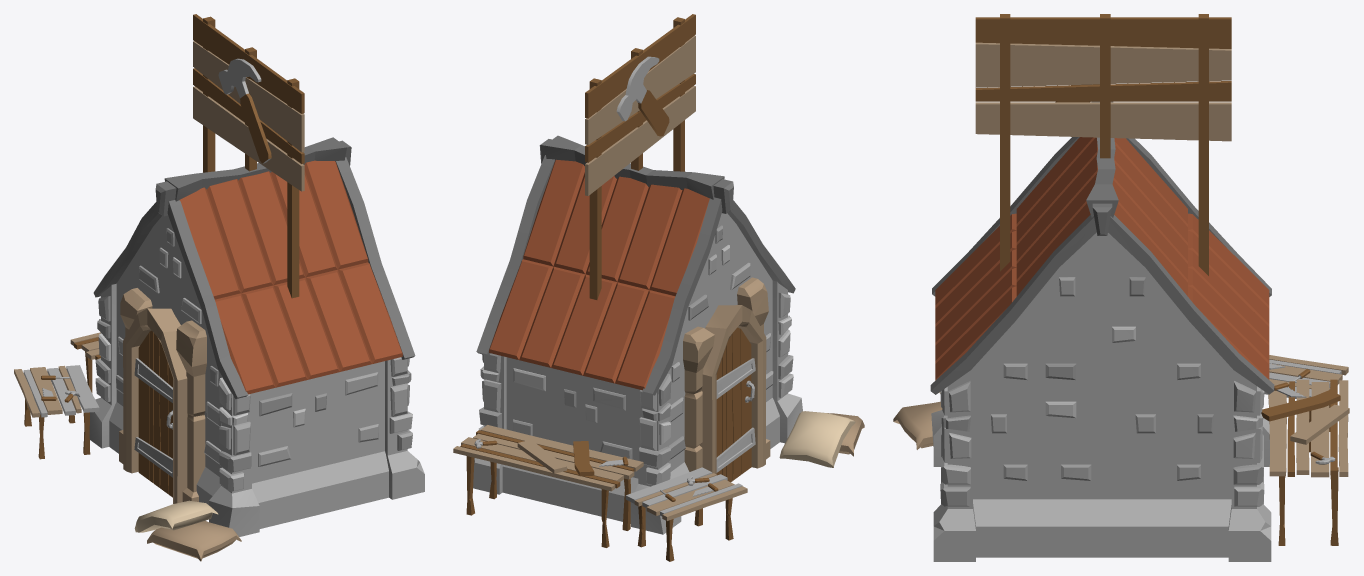
Rendered from workshop.fbx.
3 views of the same model, side by side, from view 1: azimuth 30°, elevation 25°; view 2: azimuth 150°, elevation 25°; view 3: azimuth 270°, elevation 25° (orthographic). The views are drawn at different scales.
Parts seen in each view (by area): view 1: Workshop; view 2: Workshop; view 3: Workshop.
Part boxes in pixels (x1,y1,x2,y2): Workshop: (14,14,424,561); Workshop: (453,14,864,561); Workshop: (893,14,1349,561).
Bounding box in the file's own units: 226 × 336 × 285.
